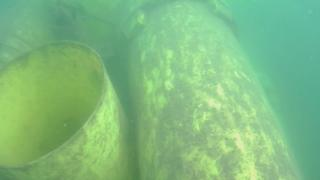pipe: (113, 1, 307, 179), (1, 39, 130, 180), (53, 1, 113, 63), (1, 1, 54, 68)
